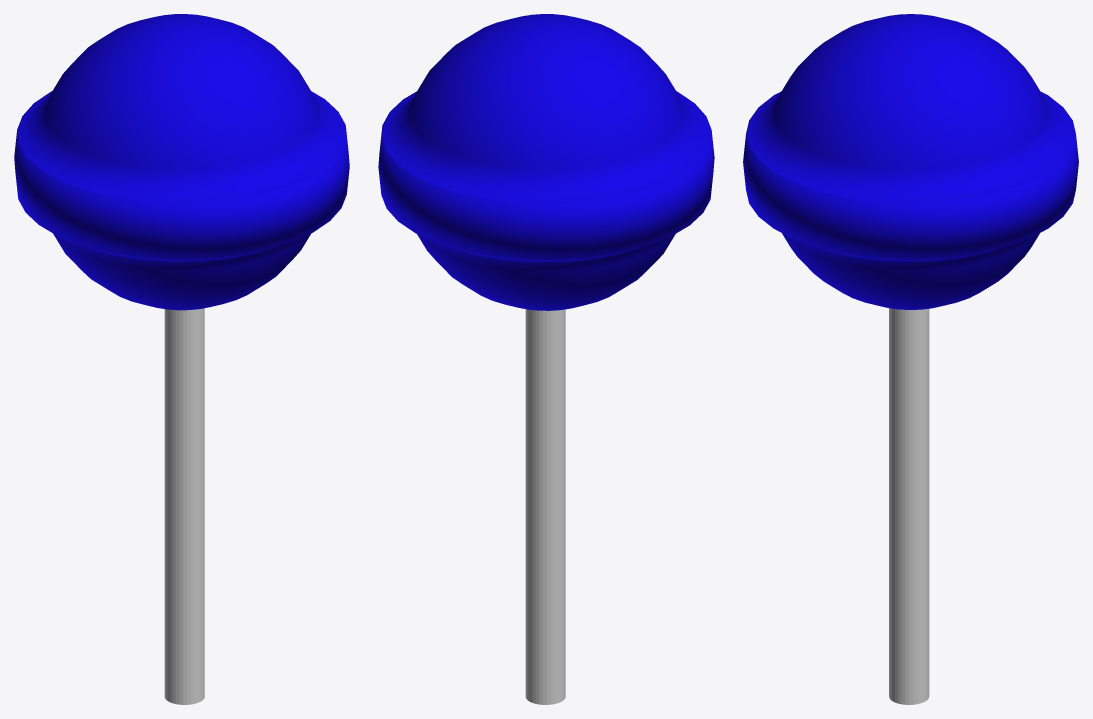
File: ChupaChups 3.glb
3 renders of one model, left to right at view 1: azimuth 30°, elevation 25°; view 2: azimuth 150°, elevation 25°; view 3: azimuth 270°, elevation 25°, orthographic.
Parts seen in each view (by area): view 1: Sphere, Cylinder; view 2: Sphere, Cylinder; view 3: Sphere, Cylinder.
Part boxes in pixels (x1,y1,x2,y2): Sphere: [14, 14, 349, 310]; Cylinder: [164, 308, 204, 704]; Sphere: [378, 14, 714, 310]; Cylinder: [525, 309, 565, 704]; Sphere: [743, 14, 1078, 309]; Cylinder: [889, 308, 929, 704].
Size of the model in its own units: 2.27 by 4.97 by 2.27.
